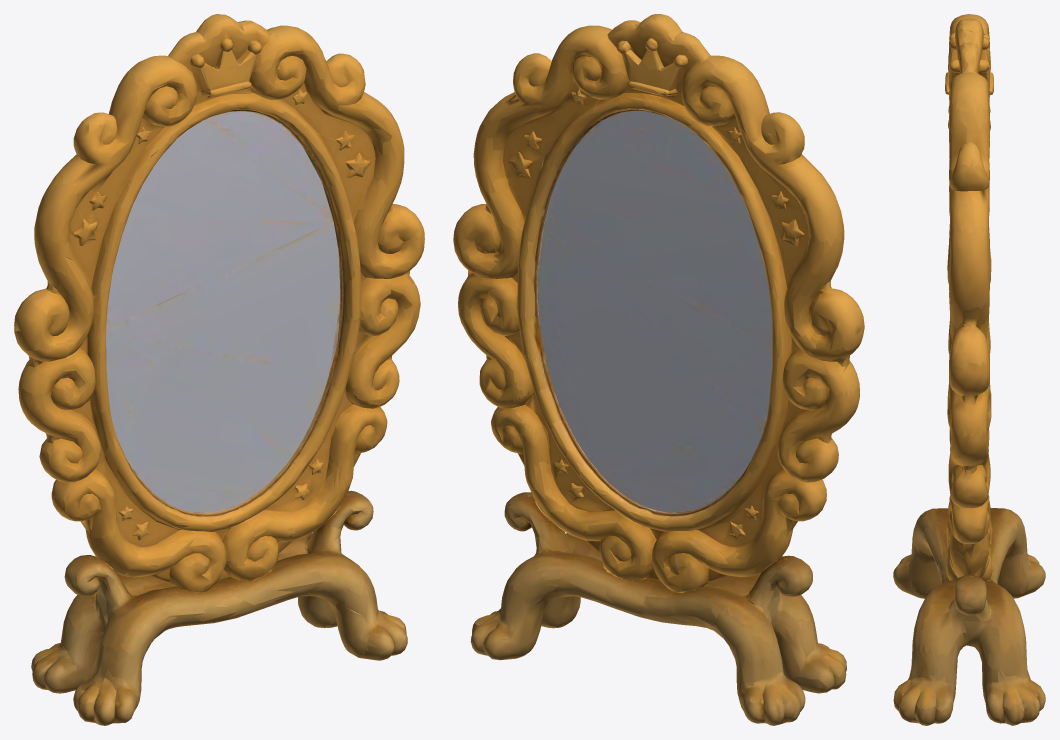
File: espejo.glb
The picture shows the model from 3 angles, left to right: view 1: azimuth 30°, elevation 25°; view 2: azimuth 150°, elevation 25°; view 3: azimuth 270°, elevation 25°; orthographic projection. The views are drawn at different scales.
Parts seen in each view (by area): view 1: output_unwrapped; view 2: output_unwrapped; view 3: output_unwrapped.
Boxes of the visible parts, <box> form: output_unwrapped: <box>14,14,424,725</box>; output_unwrapped: <box>453,14,864,725</box>; output_unwrapped: <box>893,14,1045,725</box>.
Size of the model in its own units: 1.23 by 1.9 by 0.4155.
Materials: 1 (1 with a texture image).
